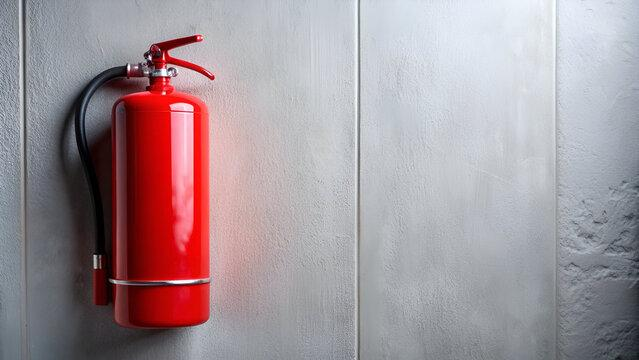wall-mounted: (67, 31, 236, 337)
